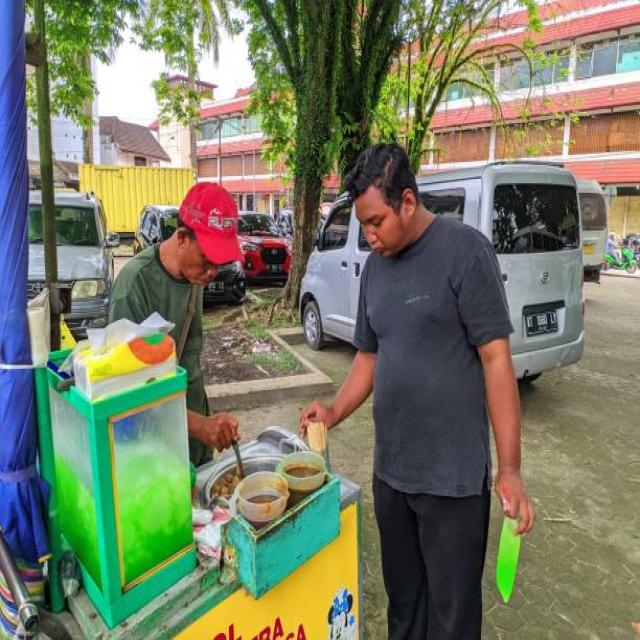Emperan: (0, 138, 397, 640)
